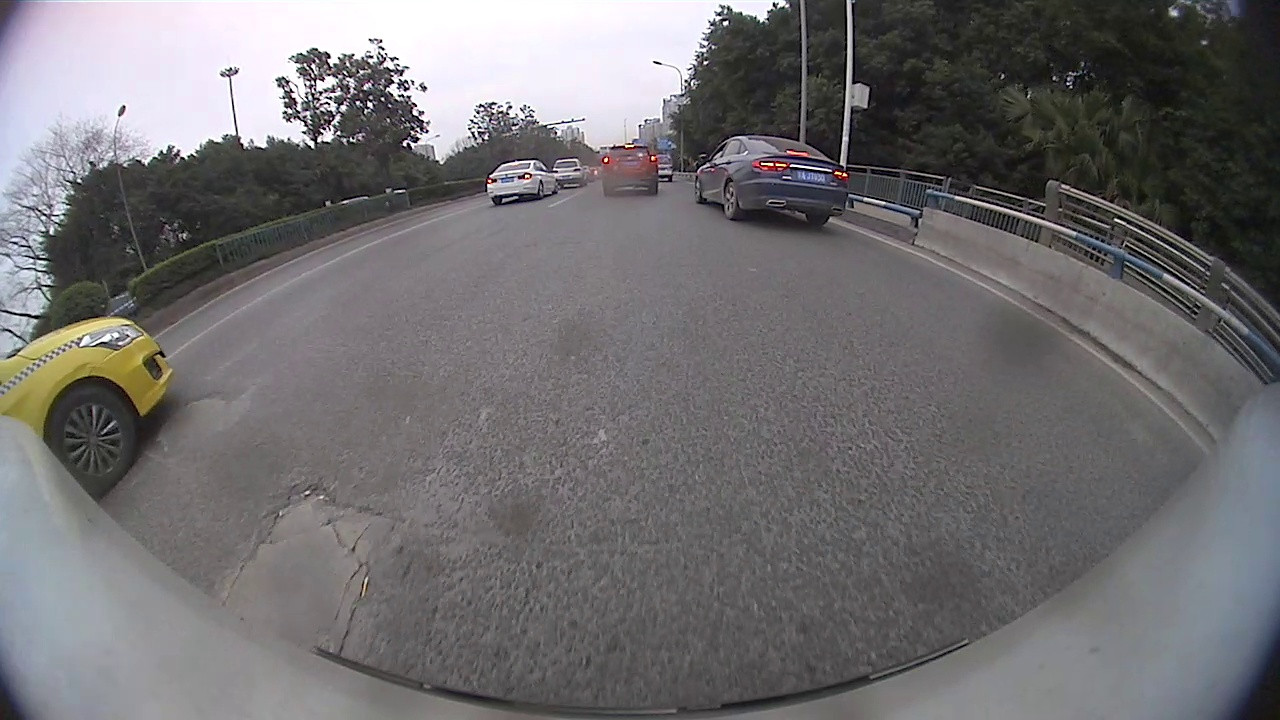car: (1, 314, 177, 502), (693, 132, 851, 228), (484, 158, 561, 207), (598, 144, 661, 198), (552, 155, 590, 189)
front: (41, 384, 144, 500), (694, 176, 705, 205)
rear: (721, 182, 744, 220), (536, 180, 545, 201)
